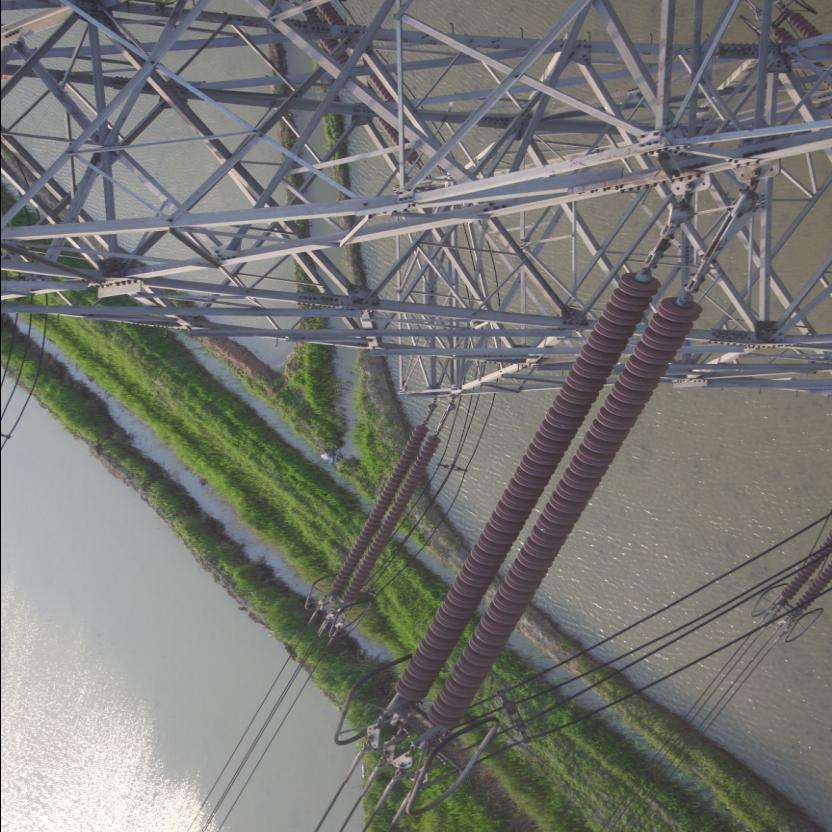insulator: (387, 251, 706, 740), (327, 418, 439, 604)
